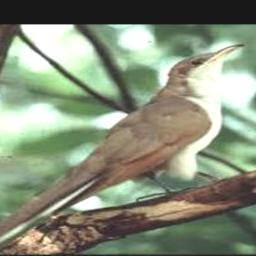Cuckoo: (0, 44, 244, 256)
